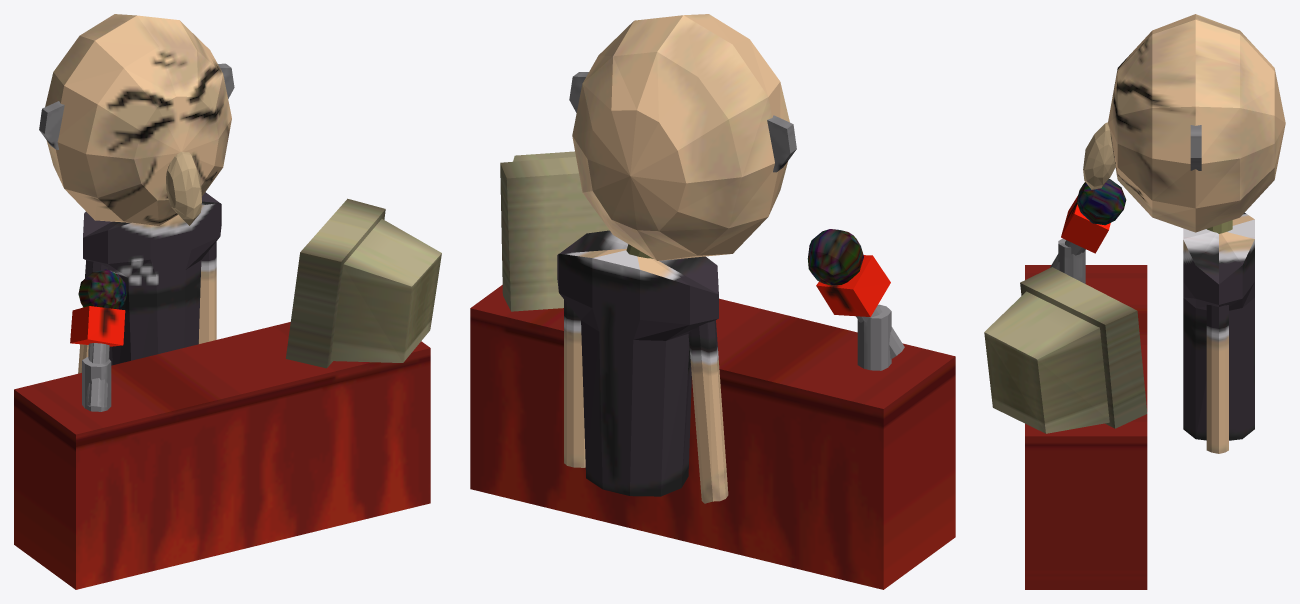
File: Kiviti.glb
The picture shows the model from 3 angles, left to right: view 1: azimuth 30°, elevation 25°; view 2: azimuth 150°, elevation 25°; view 3: azimuth 270°, elevation 25°; orthographic projection. The views are drawn at different scales.
Parts seen in each view (by area): view 1: Kiviti; view 2: Kiviti; view 3: Kiviti.
Part boxes in pixels (x1,y1,x2,y2): Kiviti: (14, 14, 441, 589); Kiviti: (470, 14, 955, 589); Kiviti: (984, 14, 1285, 589).
Size of the model in its own units: 153 by 186 by 108.
Materials: 1 (1 with a texture image).
